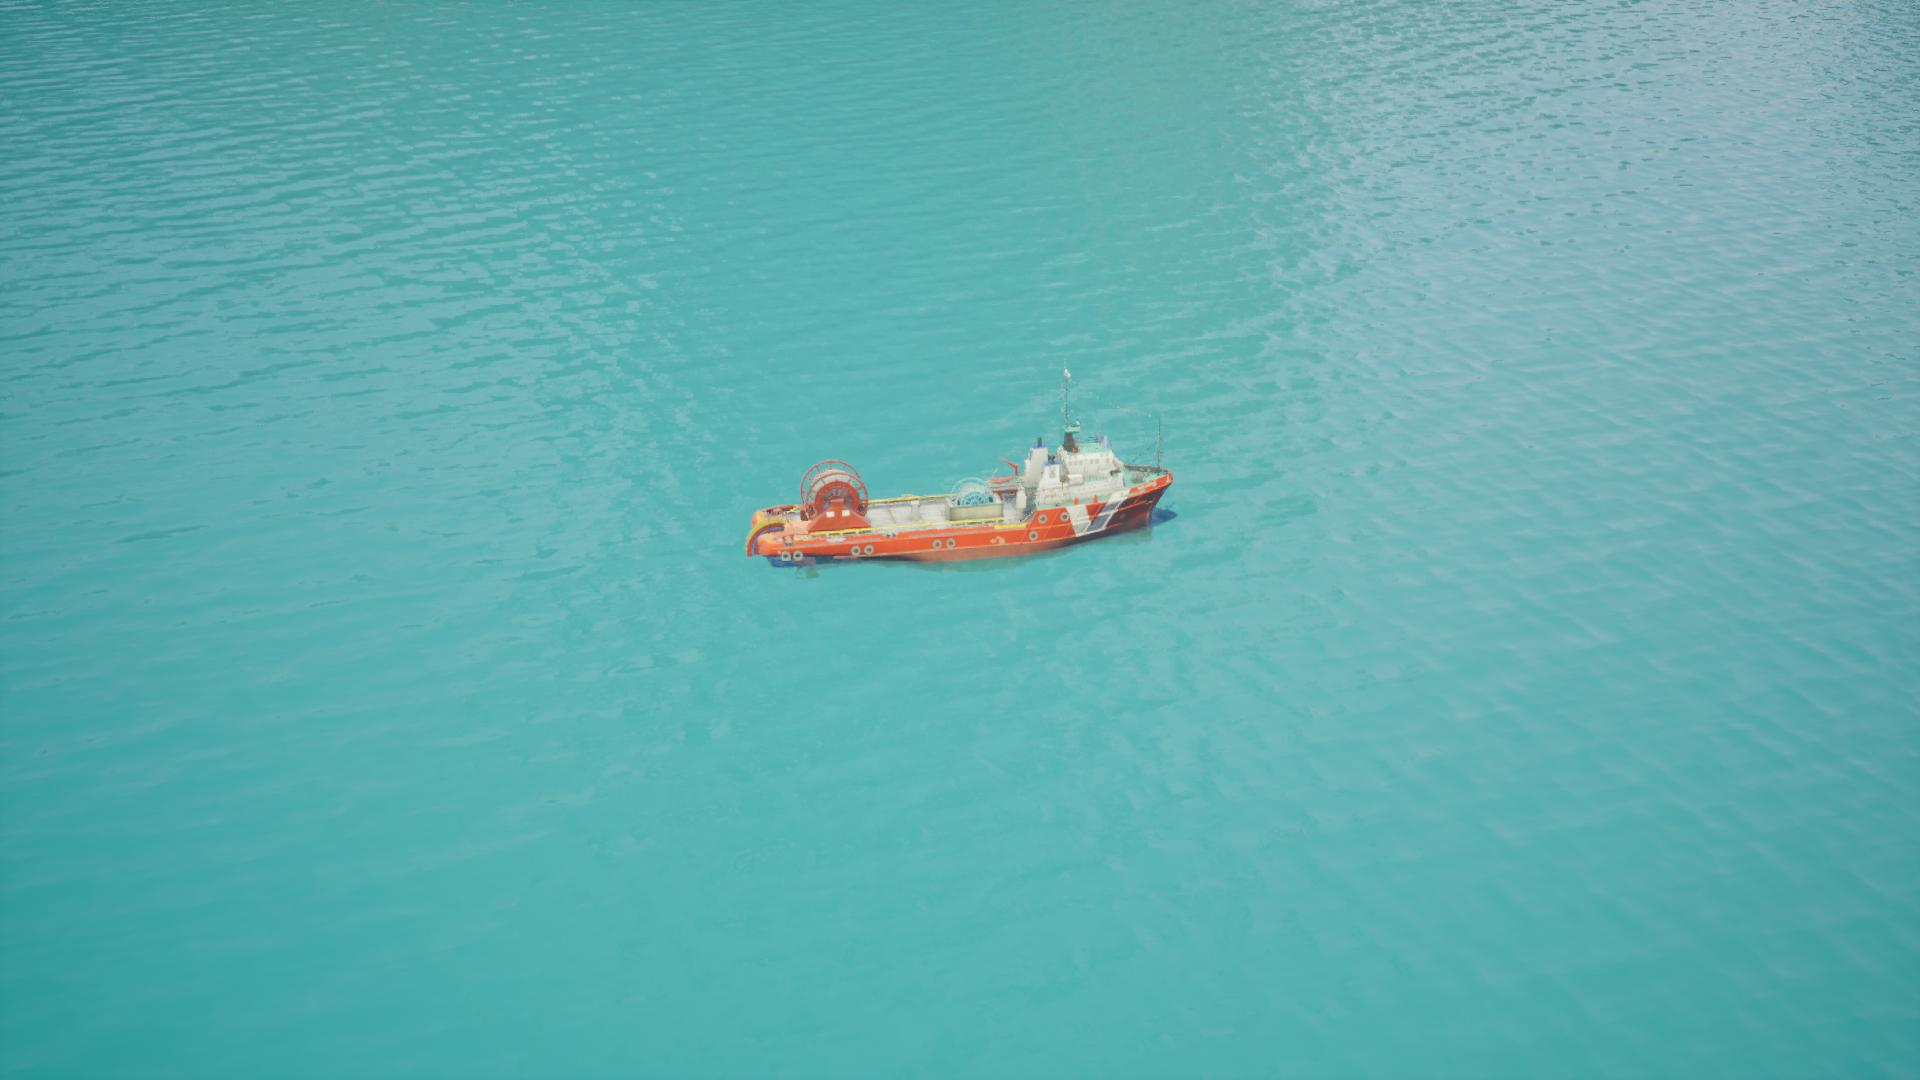Tug Boat: (744, 438, 1187, 567)
